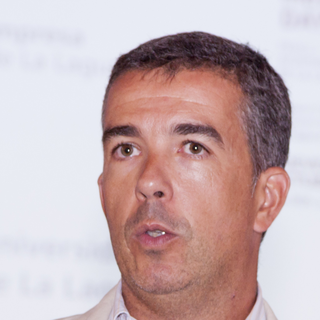eye: (172, 139, 215, 161), (107, 142, 145, 161)
